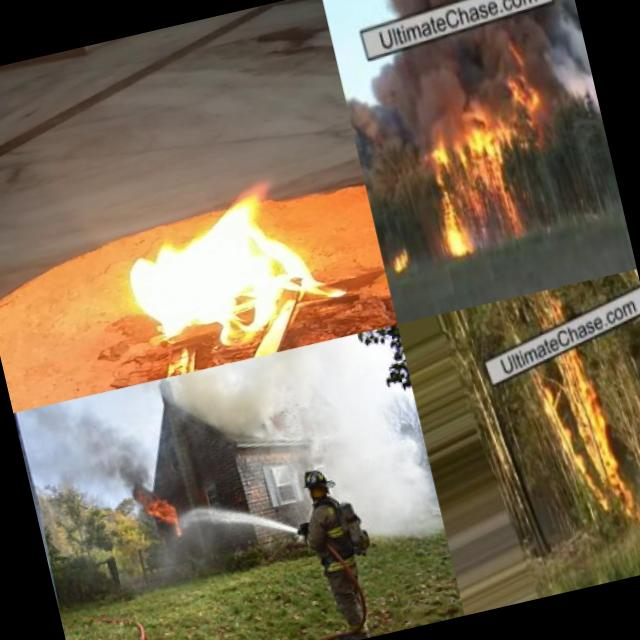fire: (99, 160, 368, 378), (416, 100, 550, 262), (533, 353, 640, 544), (137, 484, 184, 540), (388, 241, 418, 277)
smoke: (381, 18, 595, 136), (27, 389, 158, 521), (154, 359, 283, 461)
